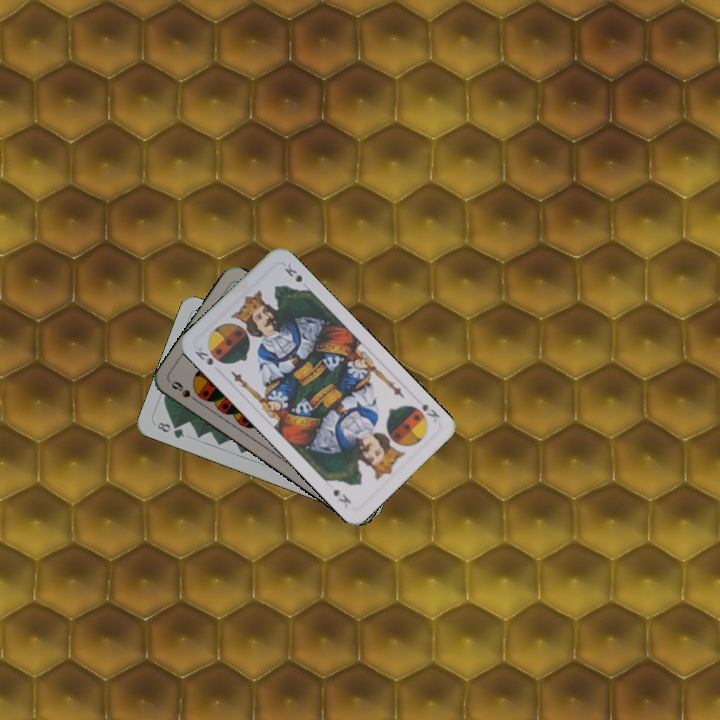G8: (153, 418, 187, 441)
S9: (167, 377, 202, 406)
SK: (191, 343, 216, 368), (418, 400, 442, 424)
